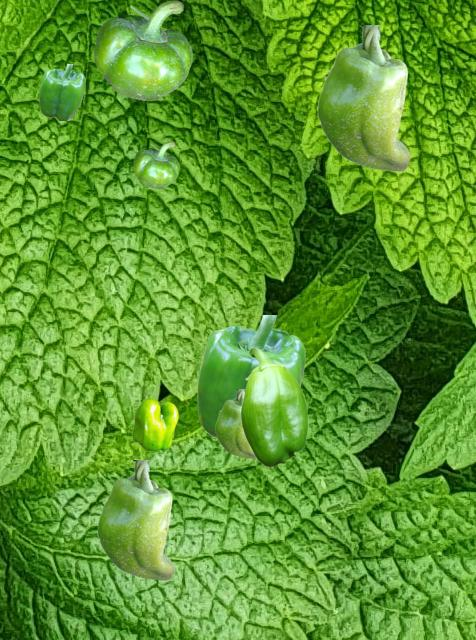bell_pepper: (317, 25, 409, 170), (197, 315, 304, 438), (94, 0, 191, 99), (97, 460, 173, 579), (240, 347, 307, 466), (215, 389, 254, 457), (39, 64, 84, 119), (132, 397, 177, 450), (133, 141, 178, 187)
